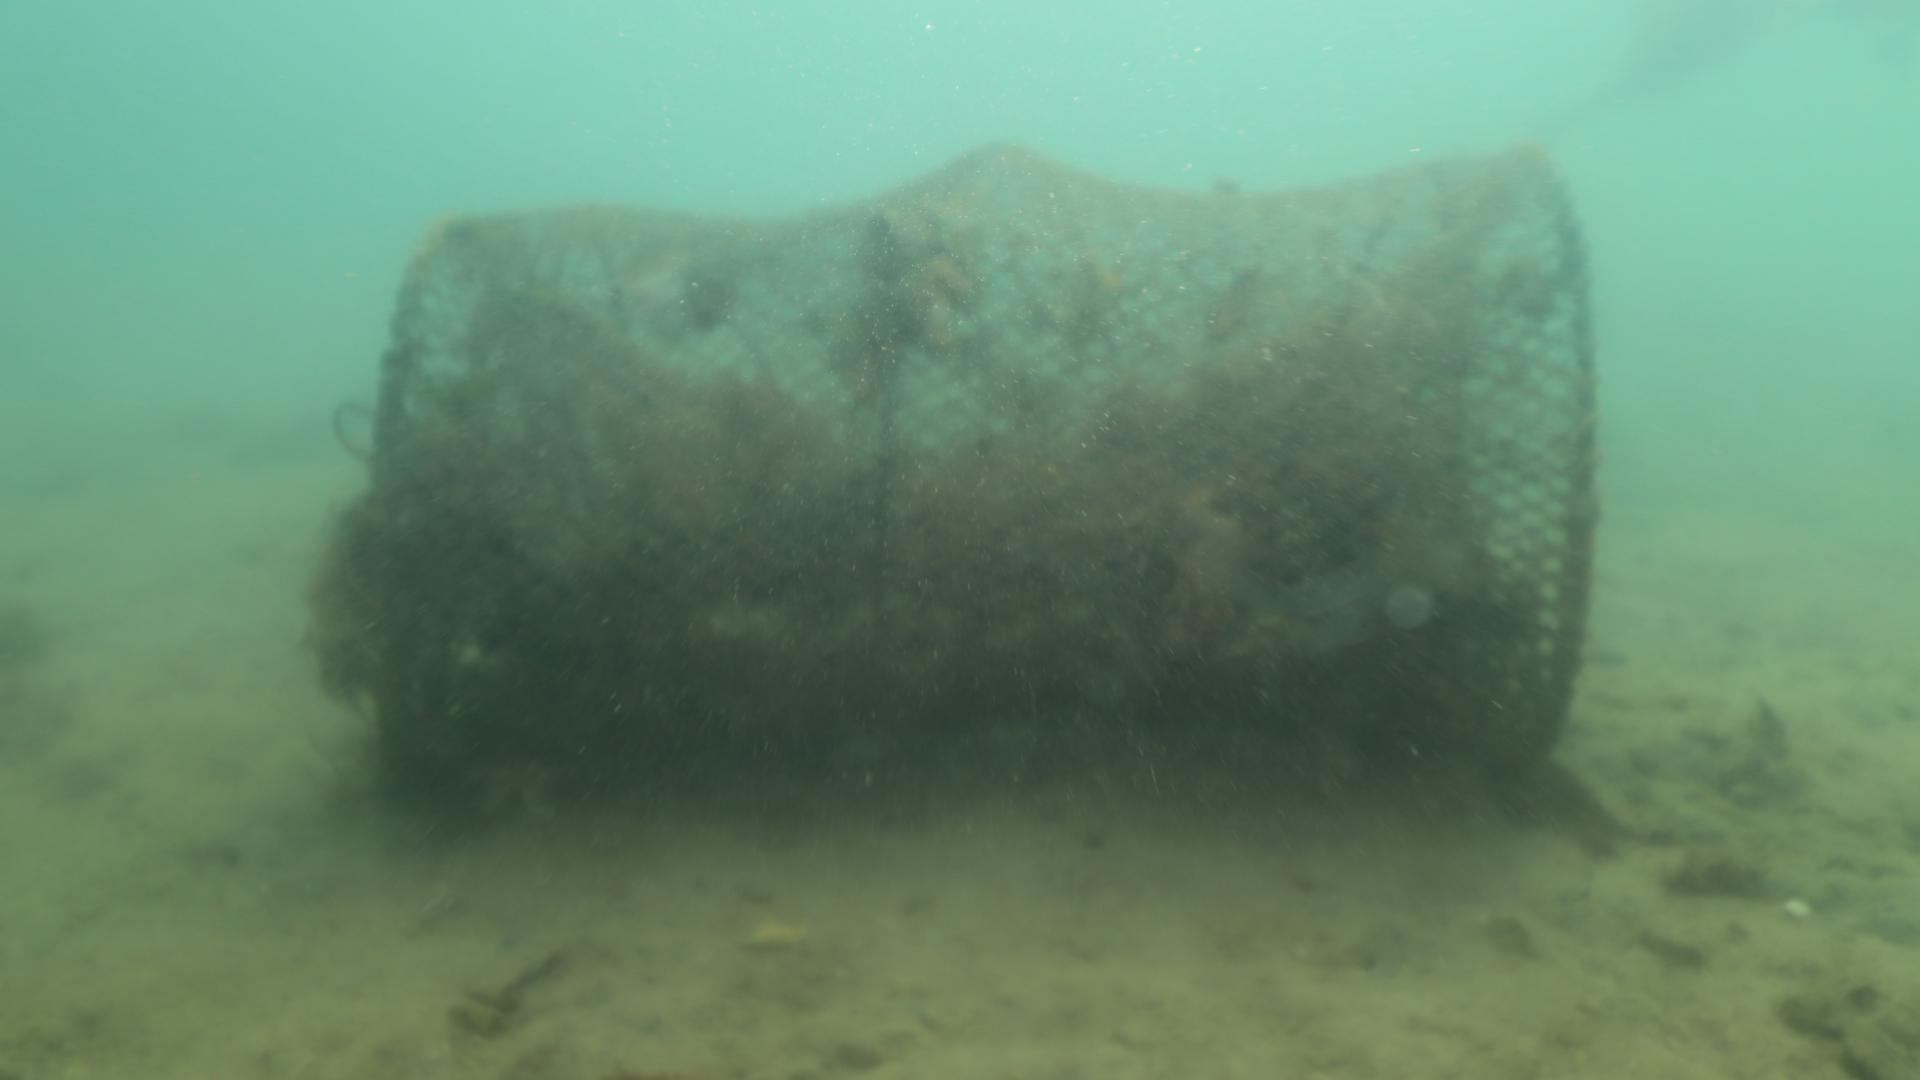spring fish trap: (367, 136, 1600, 783)
